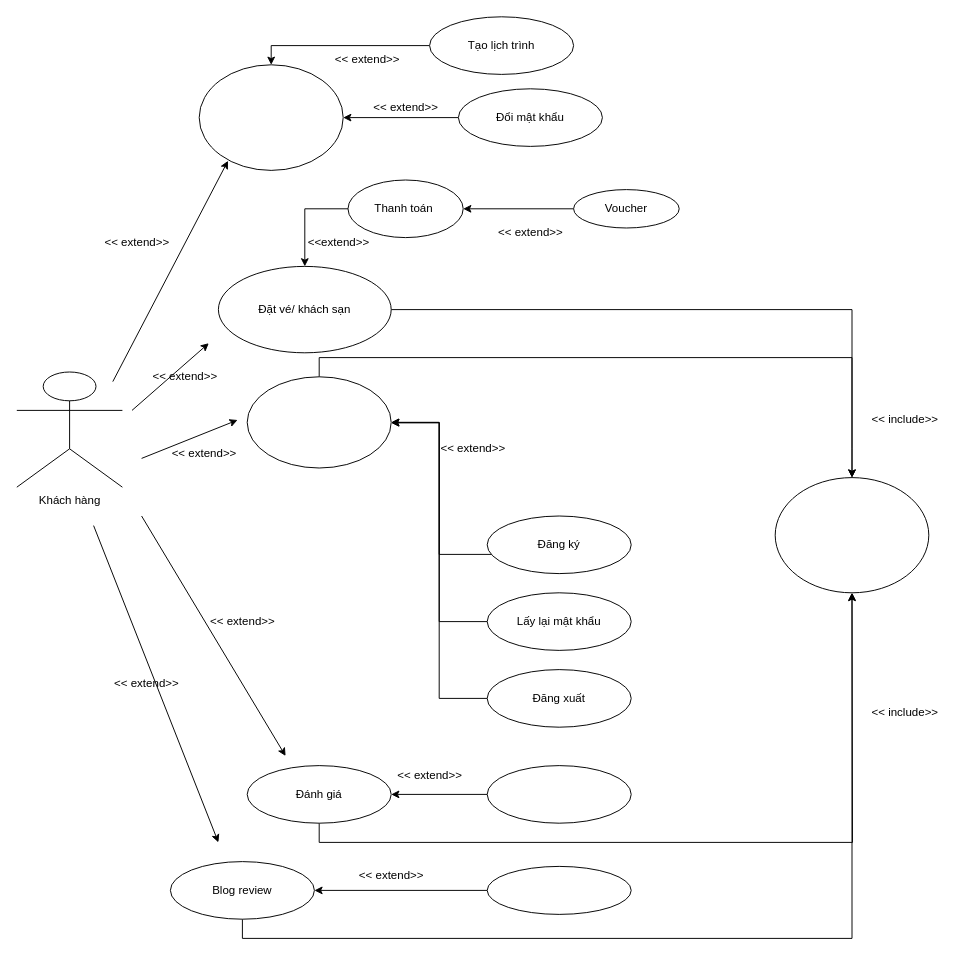
Some shapes in this 965 by 963 pixel diagram are drawn without their labels. Here are the shapes that lost their labels. From the top down, the centre of each, then its label:
At point (270, 117): "Thông tin người dùng".
At point (318, 422): "Xác thực người dùng".
At point (851, 535): "Đăng nhập".
At point (558, 794): "Comment".
At point (558, 889): "Check in".
